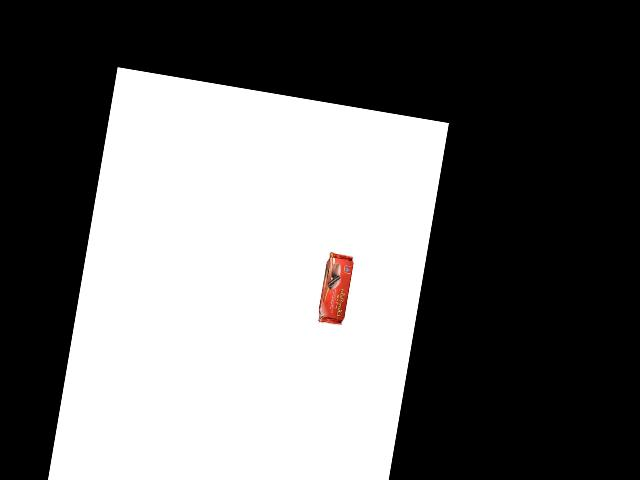chocolate: (310, 249, 355, 326)
